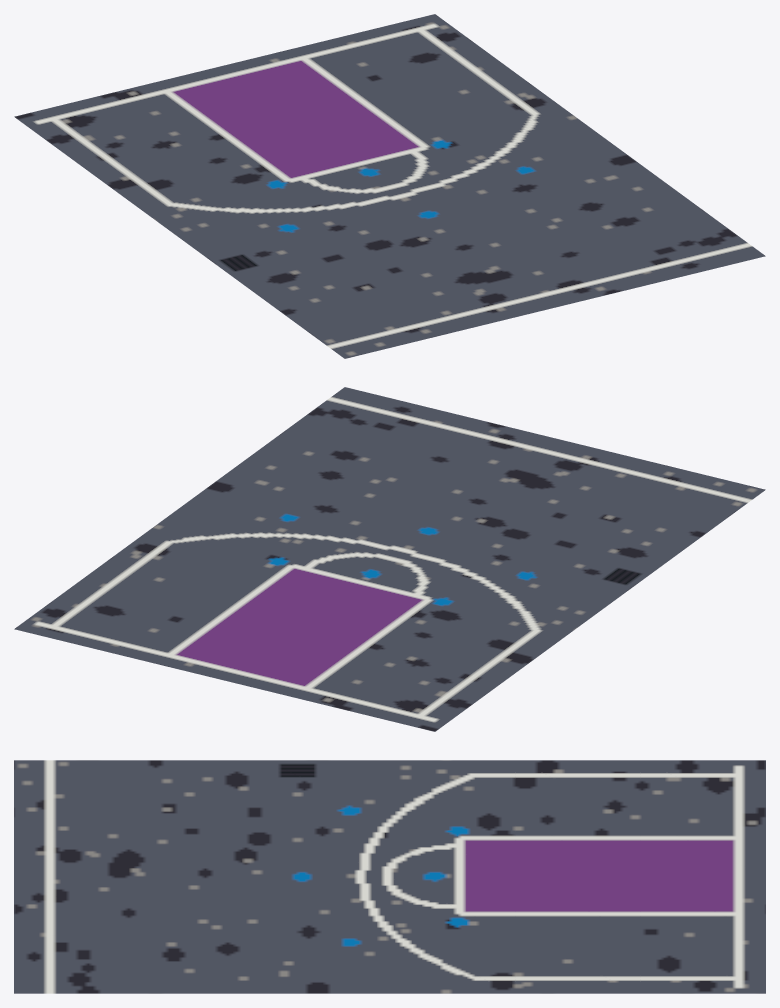
The model's file is court.glb.
3 views of the same model, one above another, from view 1: azimuth 30°, elevation 25°; view 2: azimuth 150°, elevation 25°; view 3: azimuth 270°, elevation 25° (orthographic). The views are drawn at different scales.
Visible parts, largest first — view 1: Court; view 2: Court; view 3: Court.
Part boxes in pixels (box(x1,y1,x2,y2)): Court: box(14, 14, 765, 358); Court: box(14, 387, 765, 731); Court: box(14, 760, 765, 993).
Bounding box in the file's own units: 9.2 × 0 × 12.52.
1 material, 1 textured.
